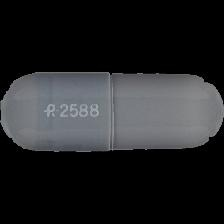49884-829: (0, 0, 224, 224)
